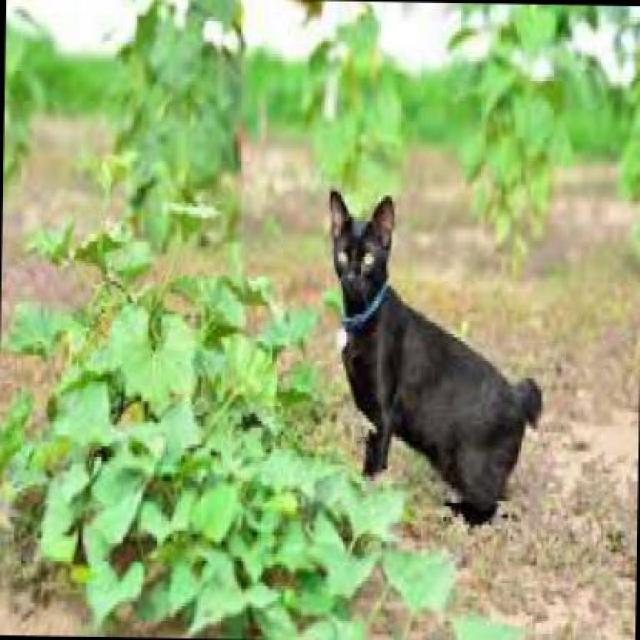animals: (314, 180, 554, 529)
